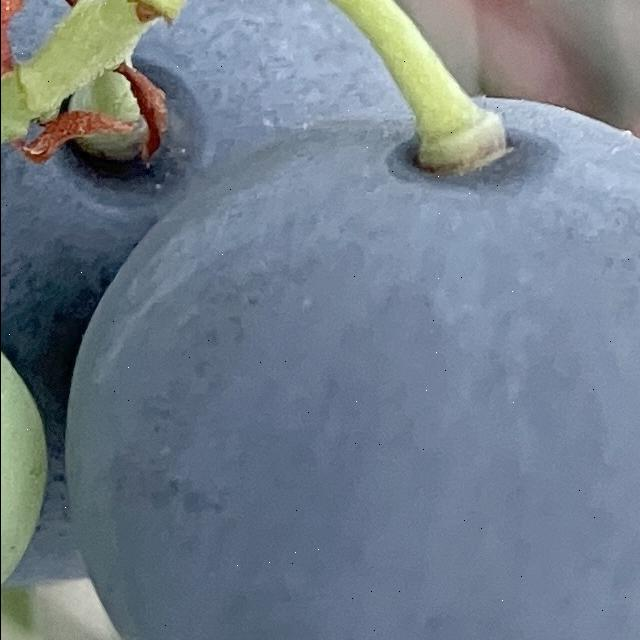Blueberries: (32, 79, 640, 640)
